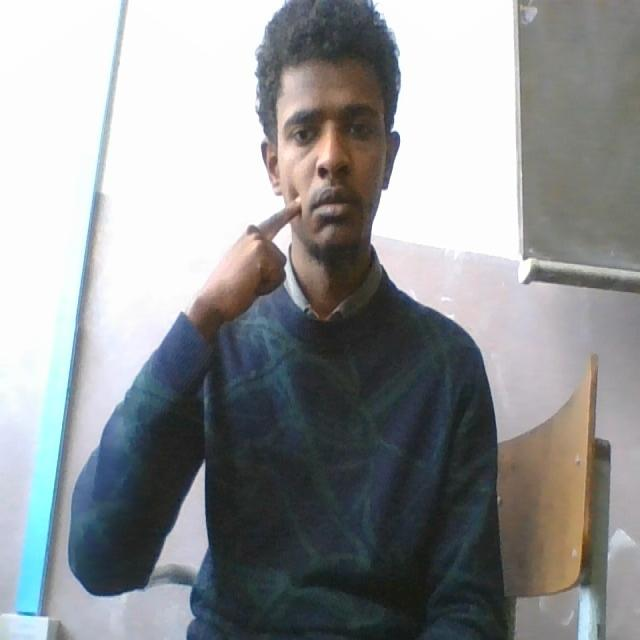enkuan_dehna_metachu: (209, 173, 400, 324)
